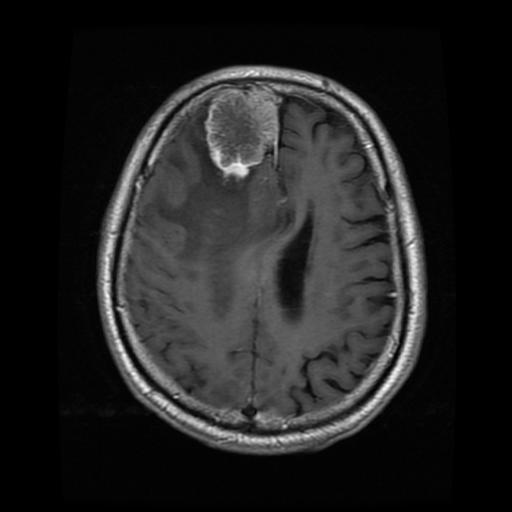Menigiomia_tumour: (205, 87, 280, 178)
